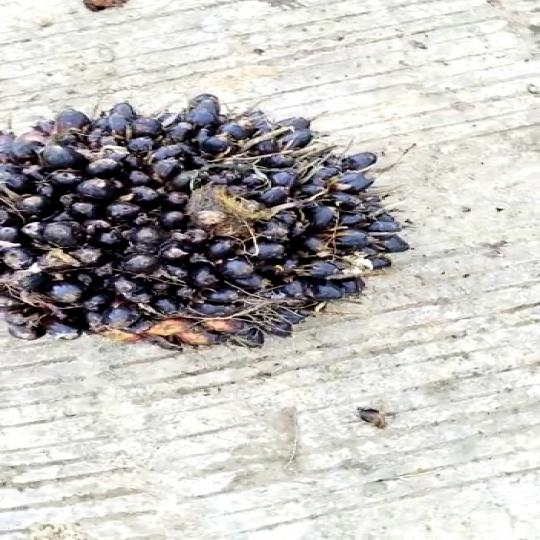mentah: (0, 90, 414, 354)
